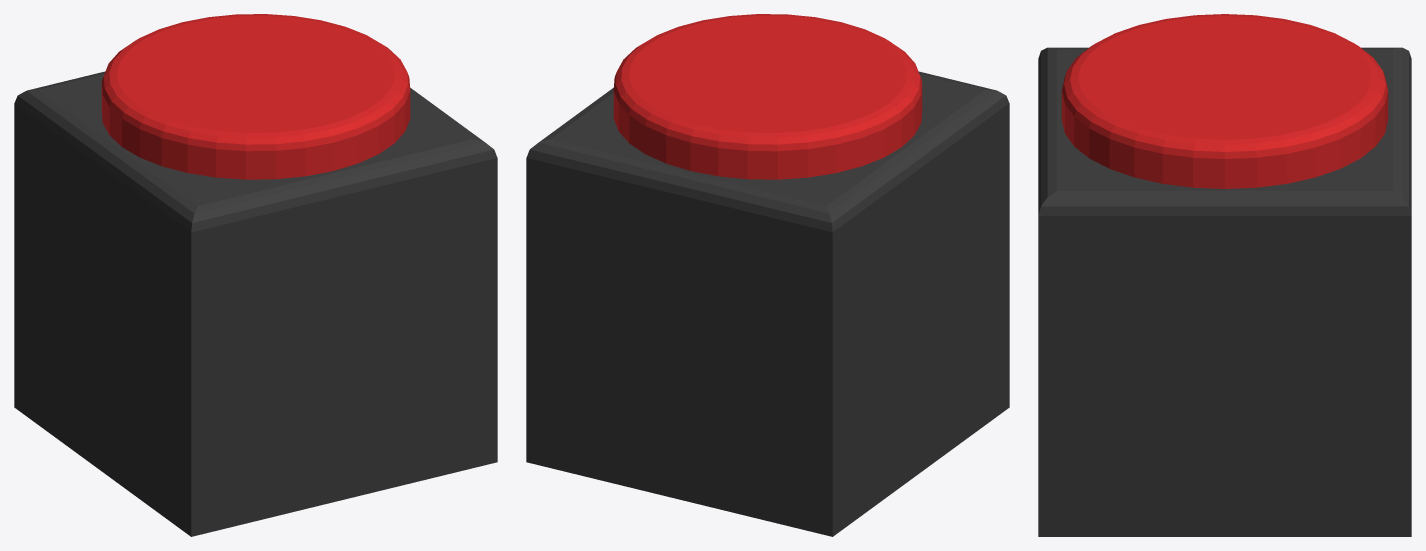
The model's file is block_button_circle.fbx.
The picture shows the model from 3 angles, left to right: view 1: azimuth 30°, elevation 25°; view 2: azimuth 150°, elevation 25°; view 3: azimuth 270°, elevation 25°; orthographic projection. The views are drawn at different scales.
Parts seen in each view (by area): view 1: Cube, Cylinder; view 2: Cube, Cylinder; view 3: Cube, Cylinder.
Part boxes in pixels (bbox=[...]): Cube: bbox=[14, 71, 497, 536]; Cylinder: bbox=[101, 14, 410, 179]; Cube: bbox=[526, 71, 1009, 536]; Cylinder: bbox=[613, 14, 922, 179]; Cube: bbox=[1038, 47, 1411, 536]; Cylinder: bbox=[1061, 14, 1388, 188].
Bounding box in the file's own units: 200 × 225 × 200.
